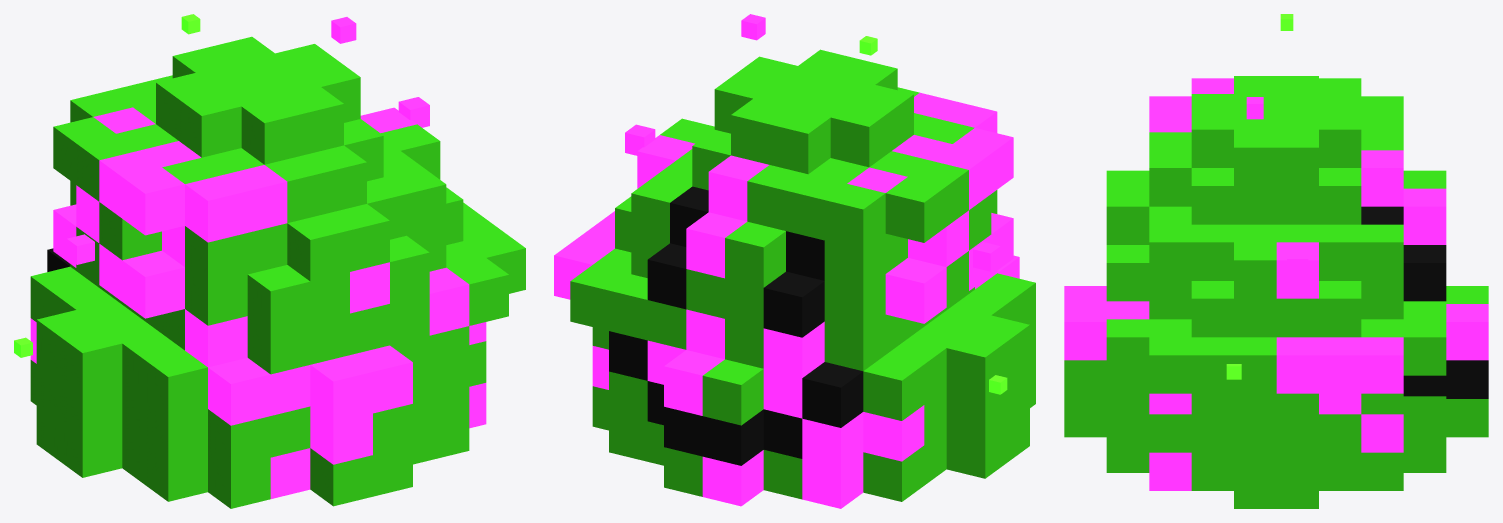
The model's file is Glitch.glb.
The picture shows the model from 3 angles, left to right: view 1: azimuth 30°, elevation 25°; view 2: azimuth 150°, elevation 25°; view 3: azimuth 270°, elevation 25°; orthographic projection. The views are drawn at different scales.
Visible parts, largest first — view 1: Body, Chunks, Bits, BitsGreen; view 2: Body, Chunks, Face, Bits, BitsGreen; view 3: Body, Chunks, Face, Bits, BitsGreen.
Boxes of the visible parts, box(x1,y1,x2,y2) form: Body: box(30, 36, 525, 508); Chunks: box(30, 107, 486, 498); Bits: box(66, 17, 429, 264); BitsGreen: box(14, 14, 200, 357); Body: box(570, 49, 1035, 501); Chunks: box(554, 92, 1019, 508); Face: box(609, 186, 863, 465); Bits: box(625, 14, 1000, 271); BitsGreen: box(859, 36, 1007, 394); Body: box(1064, 76, 1488, 508); Chunks: box(1064, 78, 1488, 490); Face: box(1361, 206, 1488, 398); Bits: box(1246, 97, 1308, 278); BitsGreen: box(1226, 14, 1293, 379).
Size of the model in its own units: 6.9 by 6.34 by 6.5.
